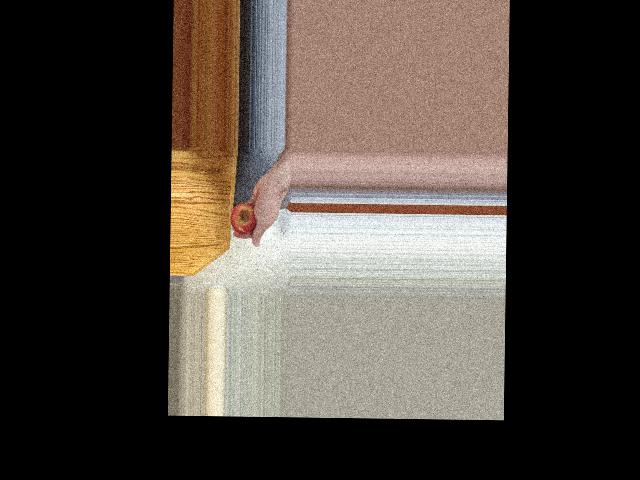apple: (229, 200, 260, 235)
